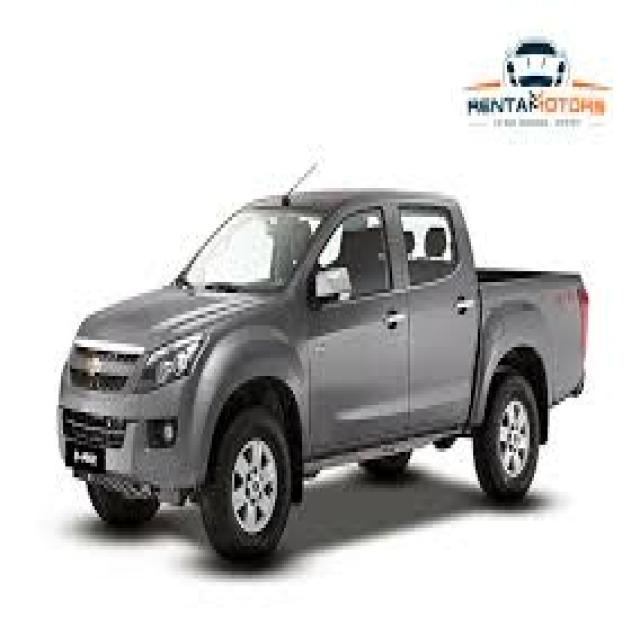CMT: (61, 194, 590, 556)
